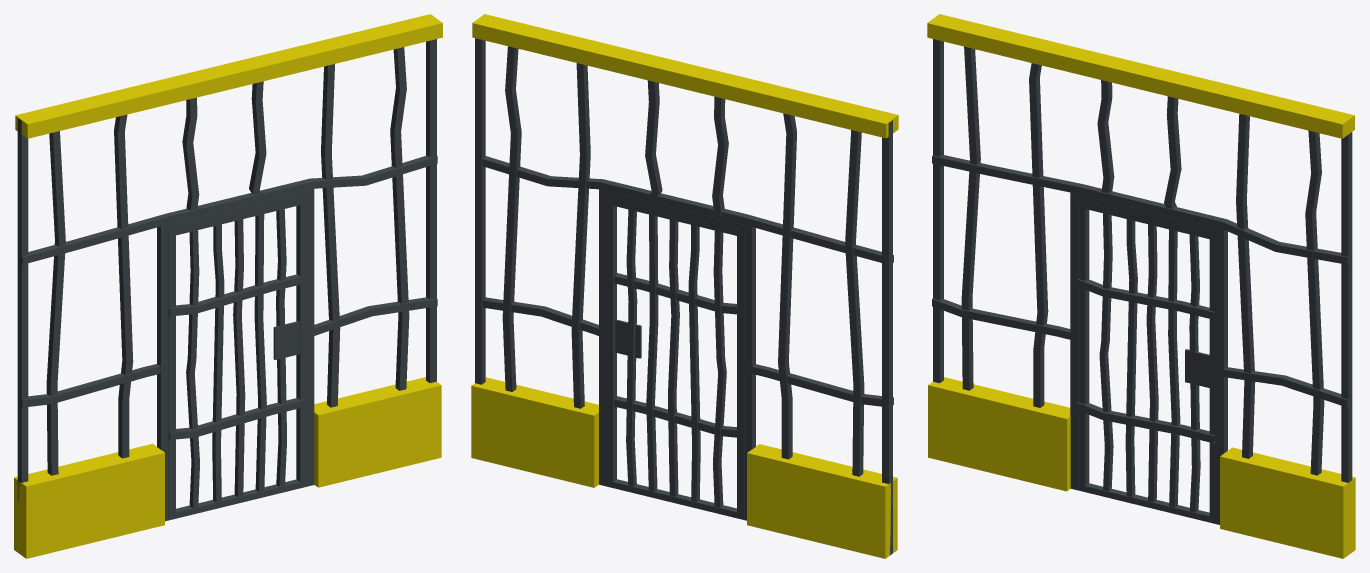
The model's file is BarWall_Door_300x300.fbx.
3 renders of one model, left to right at view 1: azimuth 30°, elevation 25°; view 2: azimuth 150°, elevation 25°; view 3: azimuth 330°, elevation 25°, orthographic.
Parts seen in each view (by area): view 1: BarWall_withDoor_300x300, pCube28; view 2: BarWall_withDoor_300x300, pCube28; view 3: BarWall_withDoor_300x300, pCube28.
Part boxes in pixels (bbox=[...]): BarWall_withDoor_300x300: bbox=[14, 14, 442, 558]; pCube28: bbox=[168, 197, 306, 520]; BarWall_withDoor_300x300: bbox=[471, 14, 898, 558]; pCube28: bbox=[606, 198, 744, 519]; BarWall_withDoor_300x300: bbox=[927, 14, 1355, 558]; pCube28: bbox=[1077, 201, 1216, 523].
Size of the model in its own units: 300 by 301 by 16.87.
